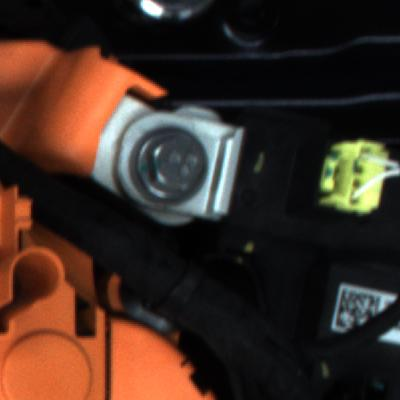nut_b: (128, 120, 220, 212)
